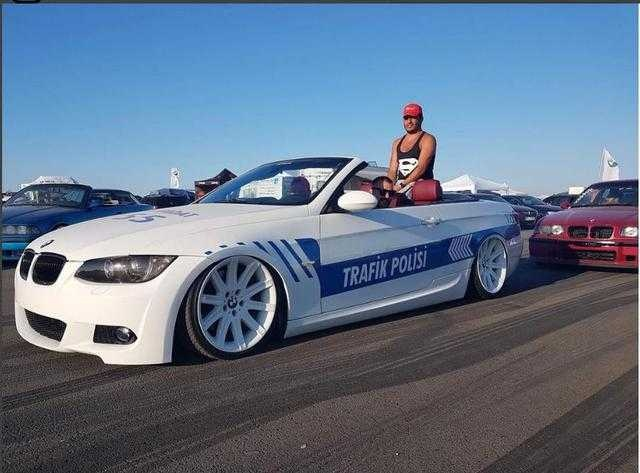Police Car: (22, 161, 535, 392)
